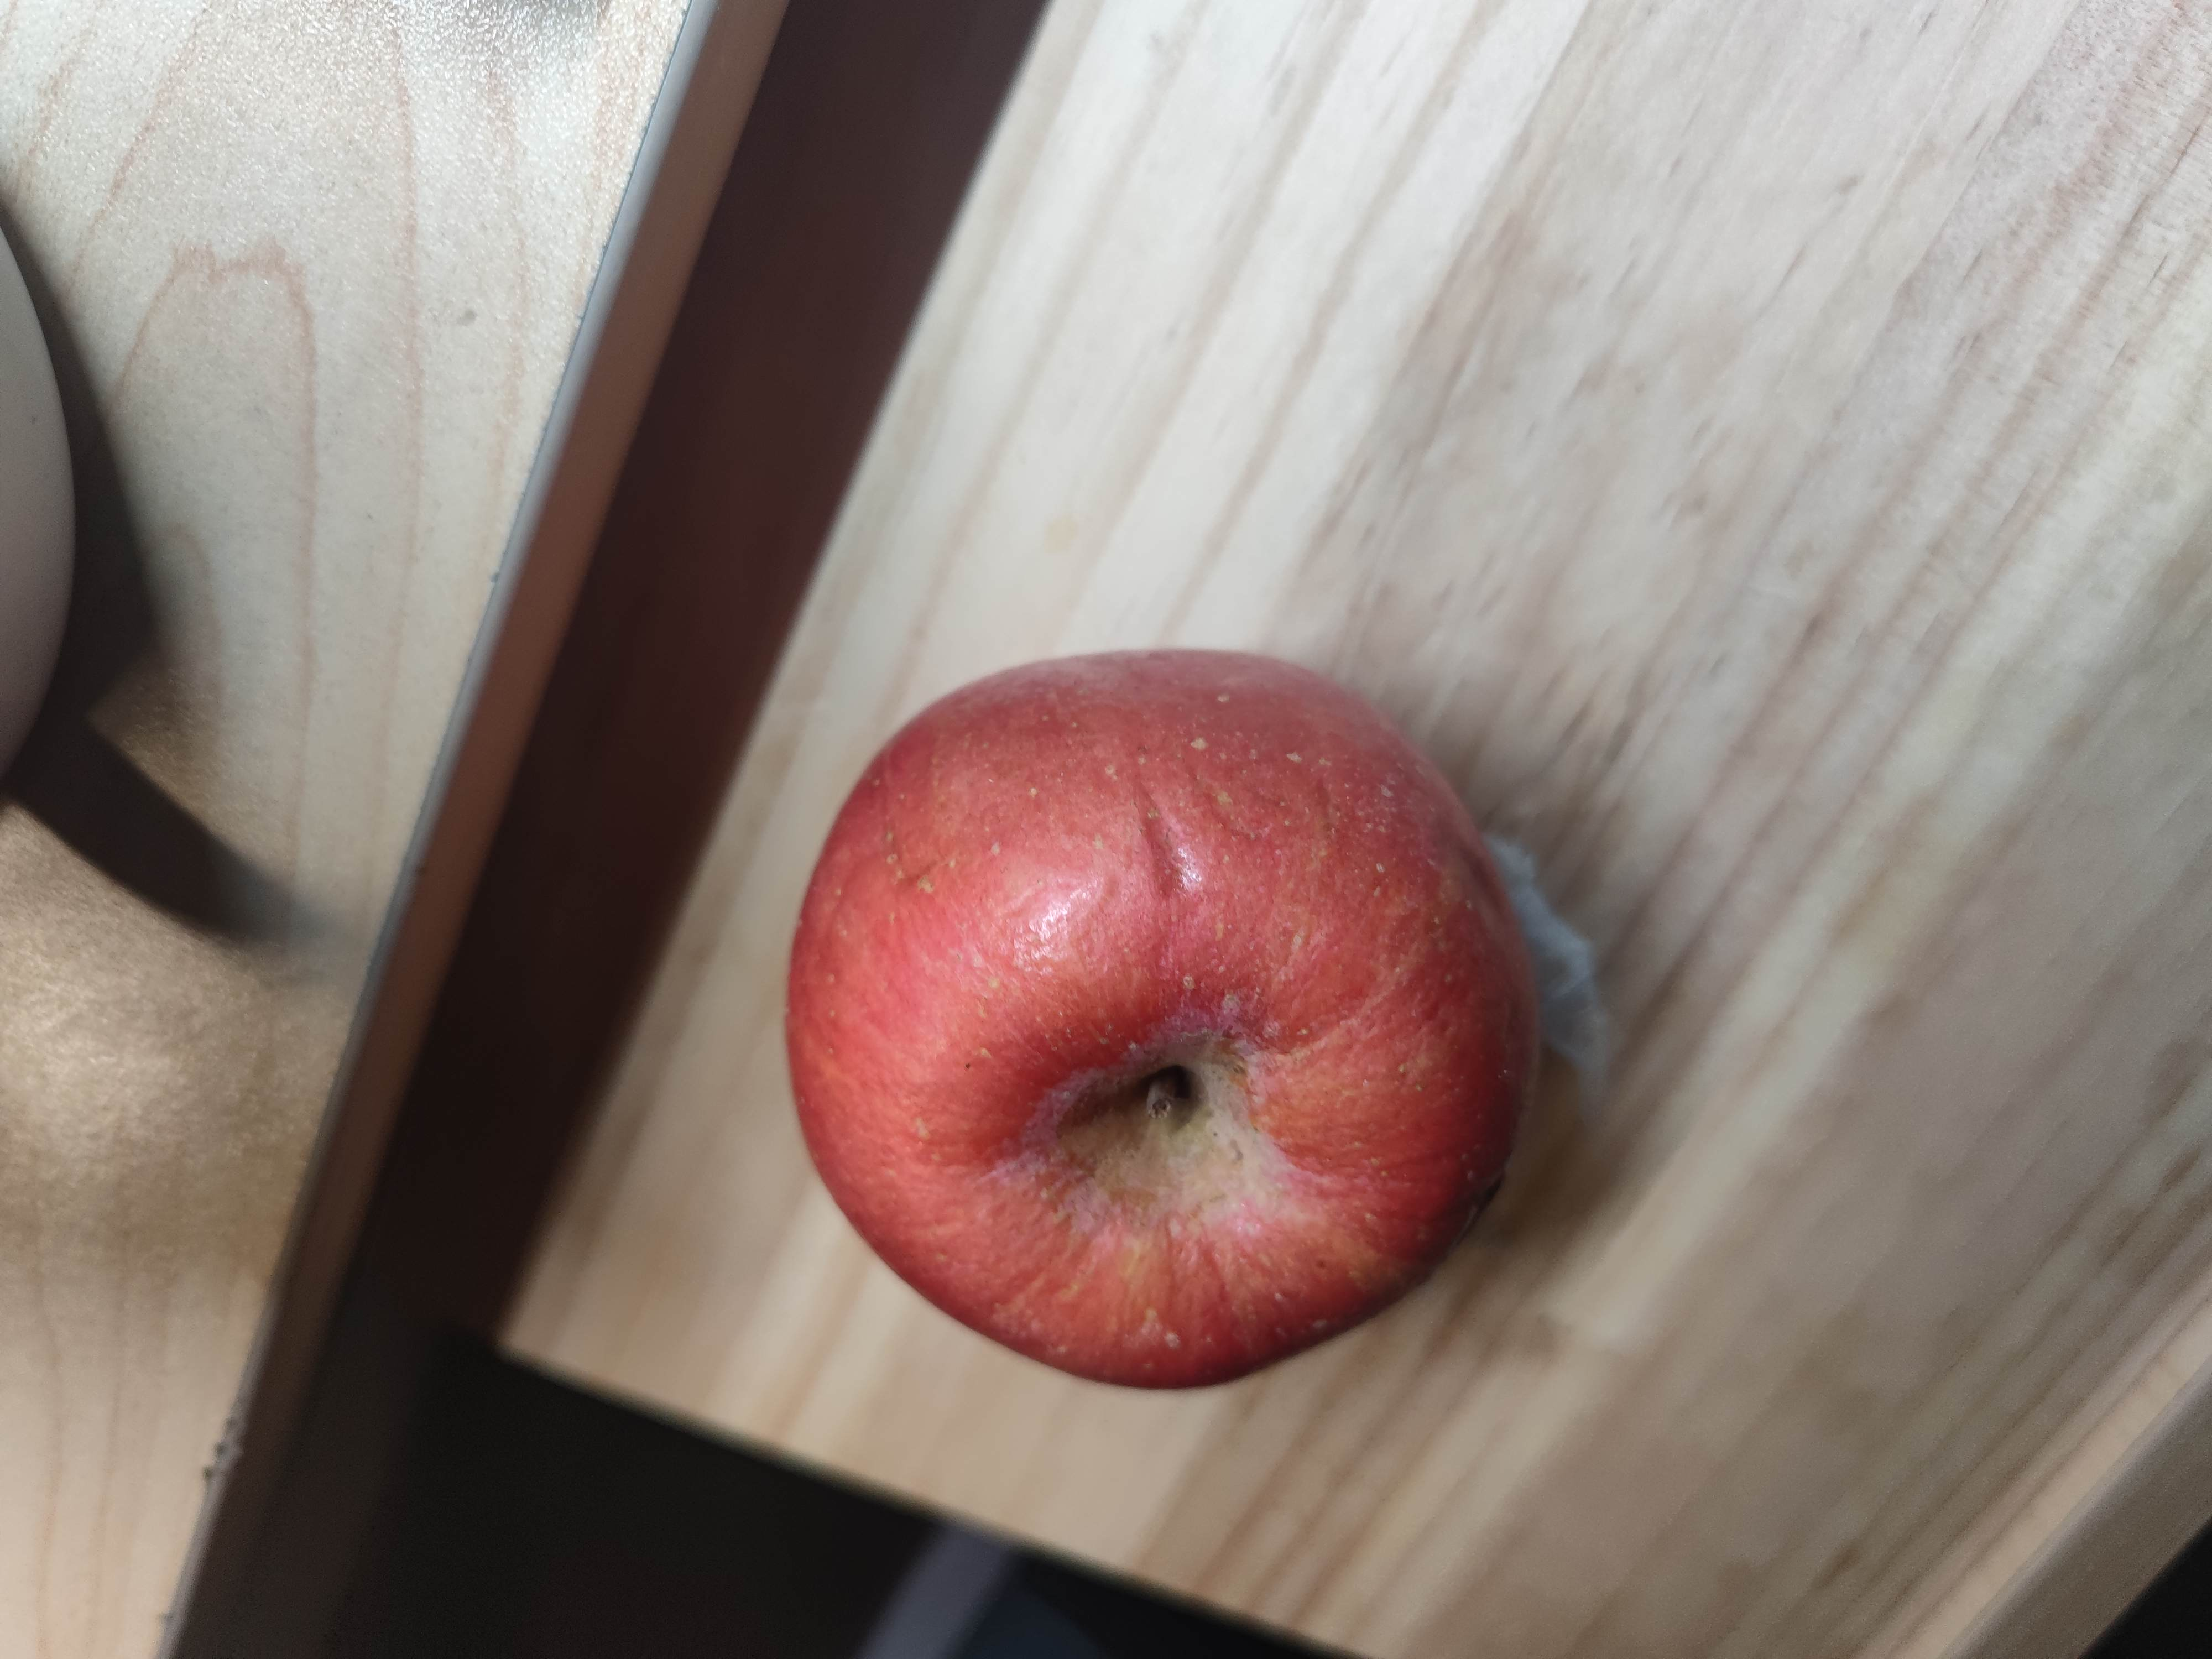apple: (791, 645, 1538, 1401)
